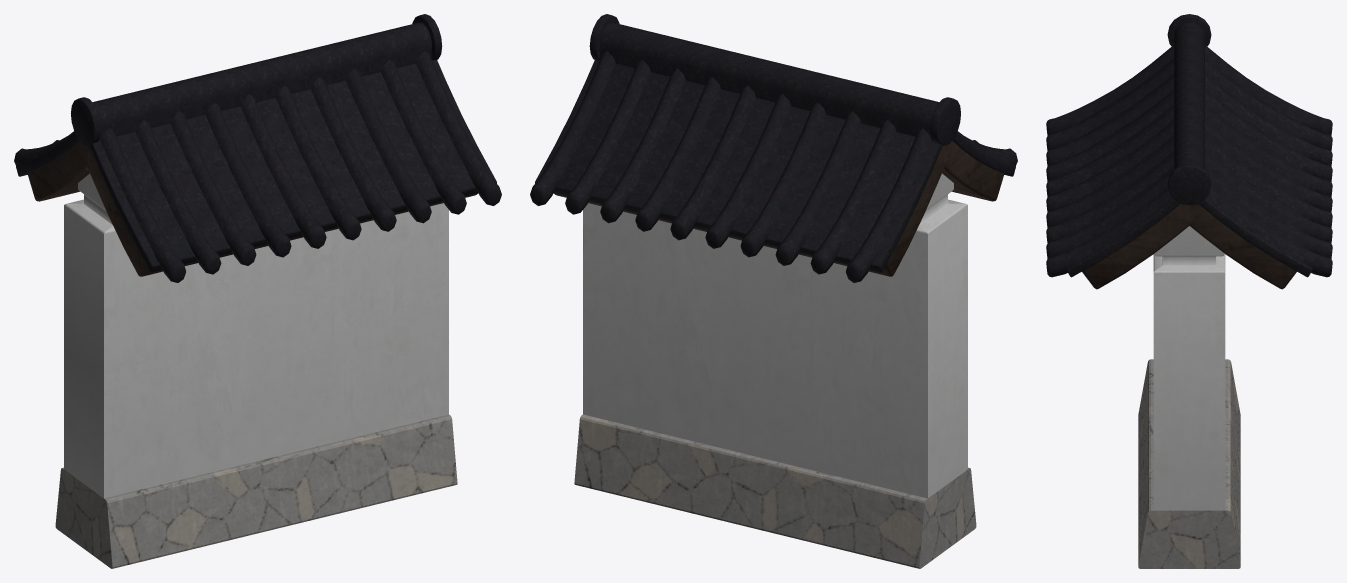
Rendered from Fence2.fbx.
3 renders of one model, left to right at view 1: azimuth 30°, elevation 25°; view 2: azimuth 150°, elevation 25°; view 3: azimuth 270°, elevation 25°, orthographic. The views are drawn at different scales.
Parts seen in each view (by area): view 1: Fence2; view 2: Fence2; view 3: Fence2.
Part boxes in pixels (x1,y1,x2,y2): Fence2: [14, 14, 501, 568]; Fence2: [530, 14, 1017, 568]; Fence2: [1046, 14, 1332, 568].
Bounding box in the file's own units: 3.04 × 3.75 × 2.41.
